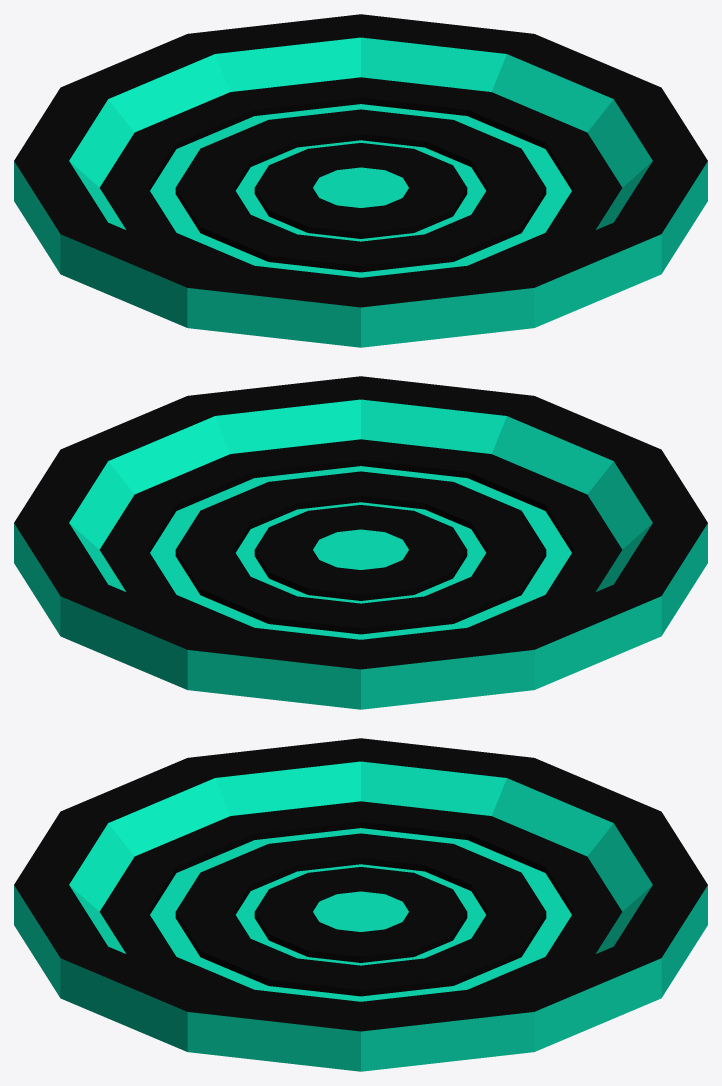
File: landing_pad1-0dTL2mUM.glb
The picture shows the model from 3 angles, top to bottom: view 1: azimuth 30°, elevation 25°; view 2: azimuth 150°, elevation 25°; view 3: azimuth 270°, elevation 25°; orthographic projection.
Visible parts, largest first — view 1: Cube; view 2: Cube; view 3: Cube.
Boxes of the visible parts, x1,y1,x2,y2 form: Cube: [14, 14, 707, 347]; Cube: [14, 376, 707, 709]; Cube: [14, 738, 707, 1071].
Size of the model in its own units: 2 by 0.128 by 2.
